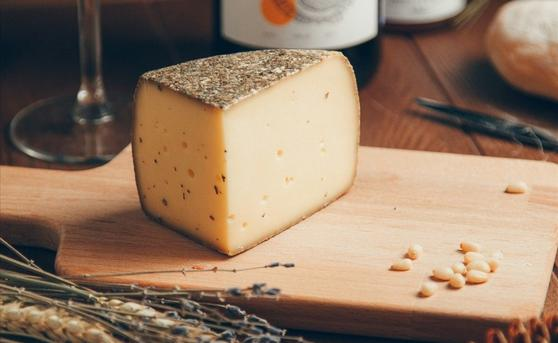cheese: (129, 47, 359, 250)
